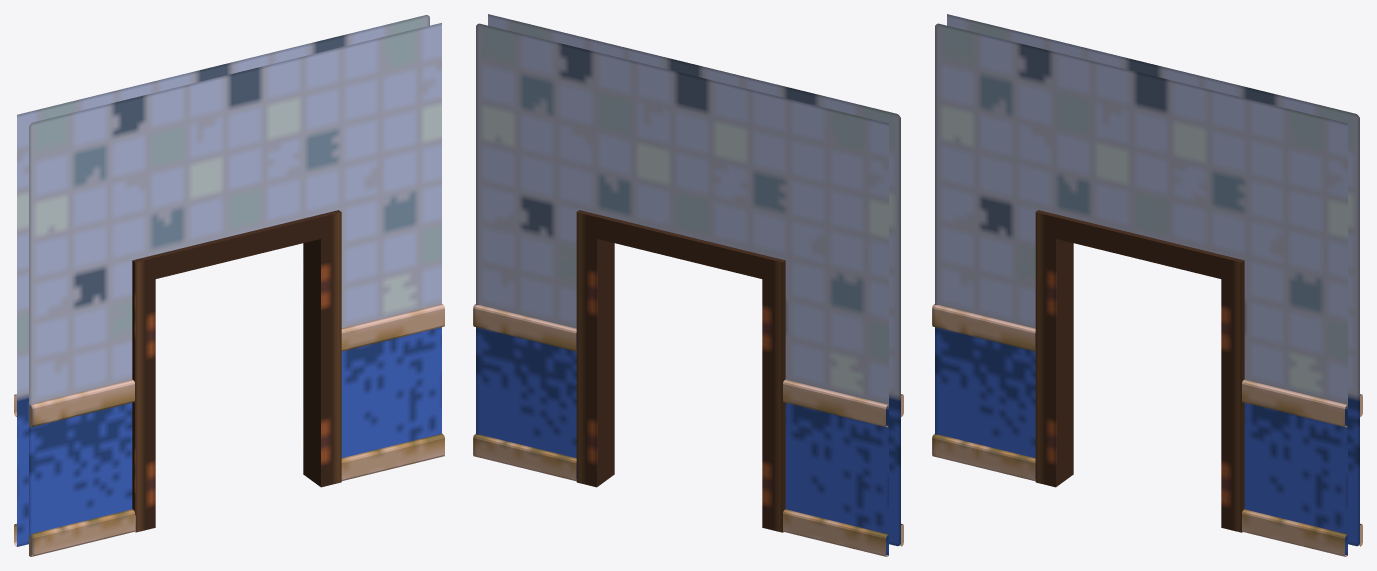
File: Wall_Door_TipoC.fbx
3 views of the same model, side by side, from view 1: azimuth 30°, elevation 25°; view 2: azimuth 150°, elevation 25°; view 3: azimuth 330°, elevation 25° (orthographic).
Parts seen in each view (by area): view 1: Cube.119, Cube.118, Cube.114, Cube.115; view 2: Cube.119, Cube.118, Cube.117, Cube.116; view 3: Cube.119, Cube.118, Cube.114, Cube.115.
Boxes of the visible parts, x1,y1,x2,y2 form: Cube.119: [17, 15, 441, 554]; Cube.118: [132, 210, 341, 532]; Cube.114: [29, 433, 444, 556]; Cube.115: [29, 304, 444, 427]; Cube.119: [476, 14, 900, 555]; Cube.118: [576, 210, 785, 532]; Cube.117: [473, 433, 888, 556]; Cube.116: [473, 304, 888, 427]; Cube.119: [935, 14, 1359, 555]; Cube.118: [1035, 210, 1244, 532]; Cube.114: [932, 433, 1347, 556]; Cube.115: [932, 304, 1347, 427].
Size of the model in its own units: 400 by 400 by 30.
